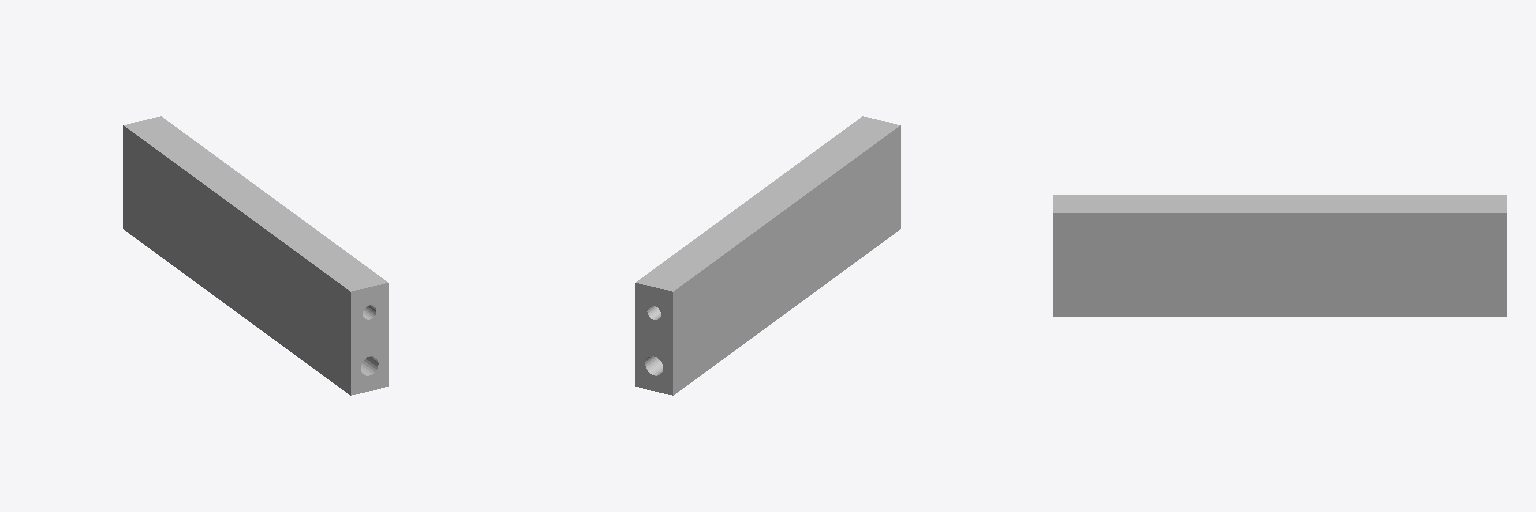
File: rygg_top.obj
3 renders of one model, left to right at view 1: azimuth 30°, elevation 25°; view 2: azimuth 150°, elevation 25°; view 3: azimuth 270°, elevation 25°, orthographic.
Parts seen in each view (by area): view 1: Mesh1 Model; view 2: Mesh1 Model; view 3: Mesh1 Model.
Boxes of the visible parts, <box> form: Mesh1 Model: <box>123,116,388,395</box>; Mesh1 Model: <box>635,116,900,395</box>; Mesh1 Model: <box>1053,195,1506,316</box>.
Size of the model in its own units: 16.68 by 44 by 174.